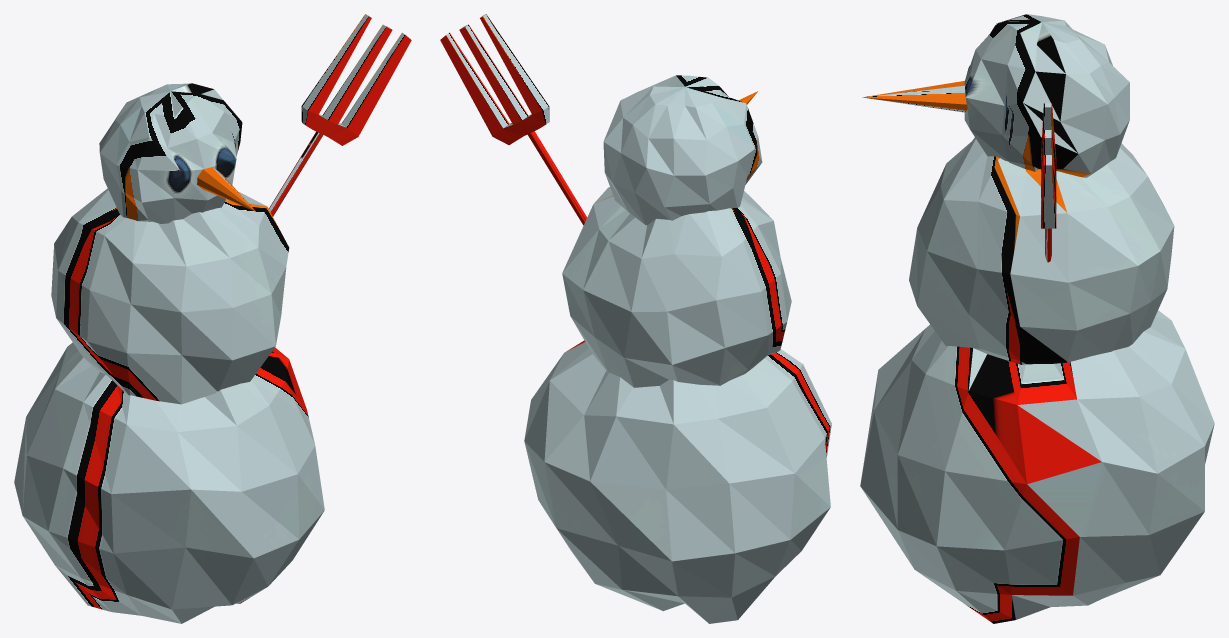
File: Snowman.glb
3 renders of one model, left to right at view 1: azimuth 30°, elevation 25°; view 2: azimuth 150°, elevation 25°; view 3: azimuth 270°, elevation 25°, orthographic. The views are drawn at different scales.
Parts seen in each view (by area): view 1: Snowman; view 2: Snowman; view 3: Snowman.
Part boxes in pixels (x1=…): Snowman: x1=14, y1=14, x2=411, y2=623; Snowman: x1=440, y1=14, x2=831, y2=623; Snowman: x1=860, y1=14, x2=1214, y2=623.
Size of the model in its own units: 41.32 by 56.69 by 29.83.
Materials: 1 (1 with a texture image).
